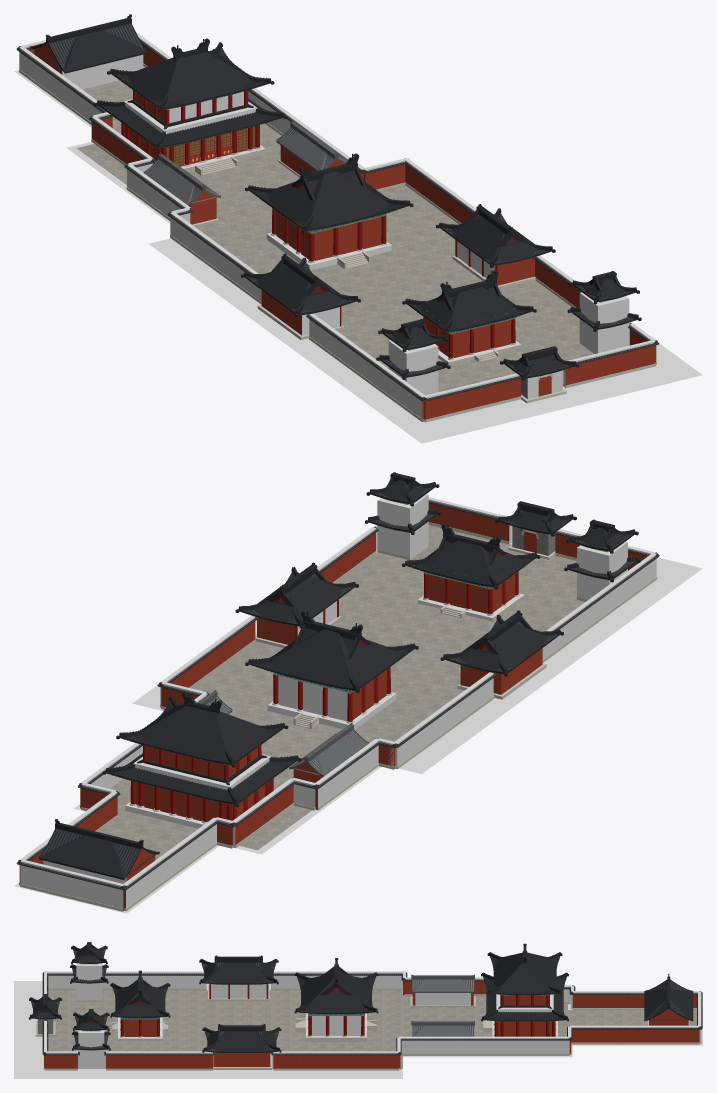
The model's file is zhihuasi.glb.
The picture shows the model from 3 angles, top to bottom: view 1: azimuth 30°, elevation 25°; view 2: azimuth 150°, elevation 25°; view 3: azimuth 270°, elevation 25°; orthographic projection. The views are drawn at different scales.
Visible parts, largest first — view 1: Temple, Massing, FOOTPRINT_south, COL_h17, COL_b3, COL_h16, COL_h10, COL_b4, COL_b18, COL_h14, COL_h6, COL_b16 (+2 smaller); view 2: Temple, Massing, FOOTPRINT_south, COL_h17, COL_b3, COL_h16, COL_h9, COL_h10, COL_b12, COL_b4, COL_h14, COL_b16 (+3 smaller); view 3: Temple, Massing, FOOTPRINT_south, COL_h6, COL_h17, COL_h16, COL_b3, COL_b4, COL_b12, COL_b9, COL_b13, COL_b16 (+5 smaller).
Boxes of the visible parts, box(x1,y1,x2,y2) form: Temple: box(16, 14, 659, 422); Massing: box(28, 30, 655, 419); FOOTPRINT_south: box(149, 238, 702, 443); COL_h17: box(309, 313, 424, 418); COL_b3: box(579, 292, 629, 353); COL_h16: box(170, 212, 261, 301); COL_h10: box(19, 47, 106, 121); COL_b4: box(388, 340, 438, 395); COL_b18: box(62, 54, 143, 88); COL_h14: box(127, 164, 190, 217); COL_h6: box(248, 88, 365, 176); COL_b16: box(123, 99, 257, 133); Temple: box(16, 472, 659, 911); Massing: box(39, 480, 646, 911); FOOTPRINT_south: box(132, 525, 702, 773); COL_h17: box(542, 553, 656, 659); COL_b3: box(377, 494, 428, 559); COL_h16: box(395, 672, 493, 768); COL_h9: box(20, 860, 124, 908); COL_h10: box(123, 817, 216, 908); COL_b12: box(276, 675, 349, 721); COL_b4: box(577, 541, 627, 599); COL_h14: box(315, 738, 379, 807); COL_b16: box(133, 754, 270, 790); Temple: box(29, 942, 702, 1070); Massing: box(33, 947, 693, 1068); FOOTPRINT_south: box(14, 981, 402, 1078); COL_h6: box(399, 1036, 569, 1053); COL_h17: box(45, 971, 206, 988); COL_h16: box(271, 971, 404, 988); COL_b3: box(78, 1030, 104, 1068); COL_b4: box(76, 963, 102, 1000); COL_b12: box(310, 1016, 361, 1035); COL_b9: box(211, 984, 266, 998); COL_b13: box(415, 993, 470, 1005); COL_b16: box(496, 994, 553, 1012).
Bounding box in the file's own units: 50 × 18.3 × 149.
12 materials, 6 textured.
